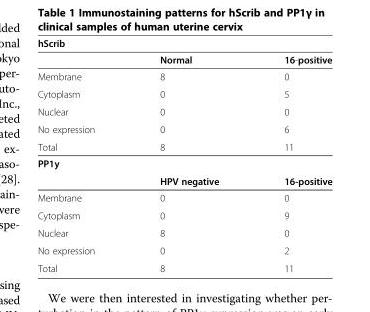table: (36, 37, 331, 273)
table column: (126, 37, 250, 273), (36, 37, 126, 273), (250, 37, 331, 273)
table column header: (36, 37, 331, 67)
table projected row header: (36, 154, 331, 171)
table row: (36, 84, 331, 102), (36, 102, 331, 120), (36, 171, 331, 189), (36, 223, 331, 241), (36, 241, 331, 259), (36, 67, 331, 84), (36, 120, 331, 137), (36, 137, 331, 154), (36, 154, 331, 171), (36, 189, 331, 206), (36, 206, 331, 223), (36, 51, 331, 67), (36, 37, 331, 51), (36, 259, 331, 273)
table spanning cell: (36, 37, 331, 51)
